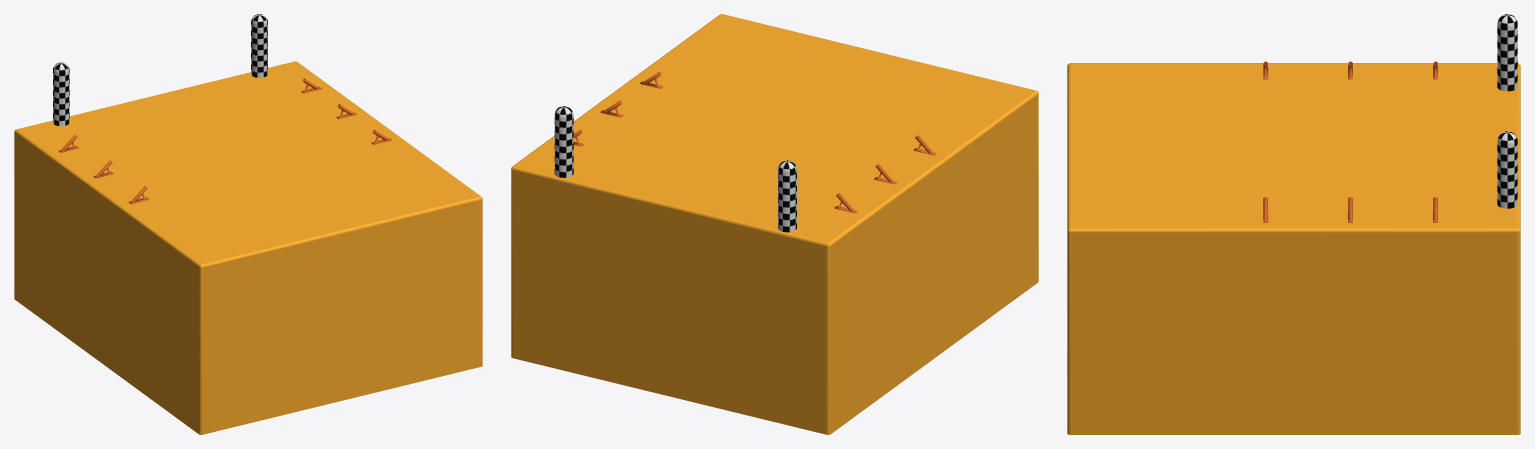
File: Finishline.fbx
The picture shows the model from 3 angles, left to right: view 1: azimuth 30°, elevation 25°; view 2: azimuth 150°, elevation 25°; view 3: azimuth 270°, elevation 25°; orthographic projection. The views are drawn at different scales.
Parts seen in each view (by area): view 1: Finish_line; view 2: Finish_line; view 3: Finish_line.
Boxes of the visible parts, x1=… form: Finish_line: x1=14, y1=14, x2=482, y2=434; Finish_line: x1=511, y1=14, x2=1038, y2=434; Finish_line: x1=1067, y1=14, x2=1520, y2=434.
Size of the model in its own units: 7 by 5.4 by 8.
